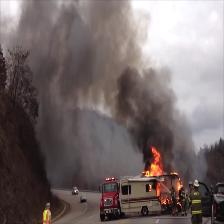fire: (147, 149, 163, 173)
smoke: (42, 23, 138, 84), (127, 94, 172, 139)
